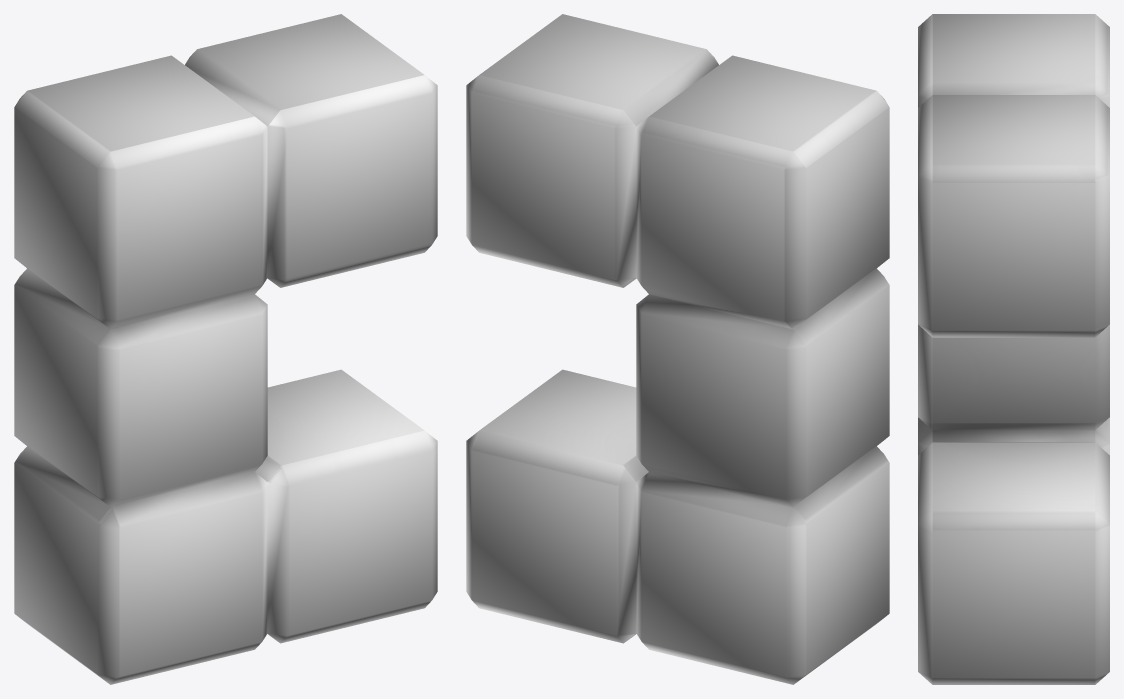
The picture shows the model from 3 angles, left to right: view 1: azimuth 30°, elevation 25°; view 2: azimuth 150°, elevation 25°; view 3: azimuth 270°, elevation 25°; orthographic projection. The views are drawn at different scales.
Parts seen in each view (by area): view 1: C-shape; view 2: C-shape; view 3: C-shape.
Part boxes in pixels (left/top/right/bottom): C-shape: left=14, top=14, right=437, bottom=684; C-shape: left=466, top=14, right=889, bottom=684; C-shape: left=918, top=14, right=1109, bottom=684.
Size of the model in its own units: 2 by 3 by 1.
